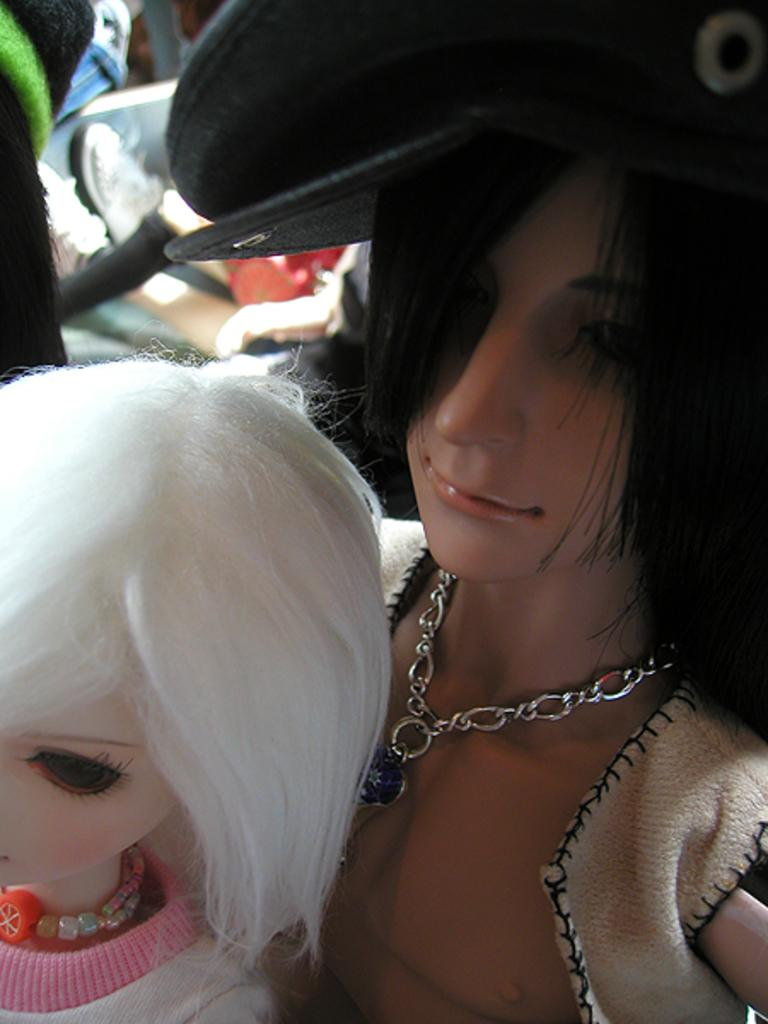Hat: (159, 0, 766, 261)
